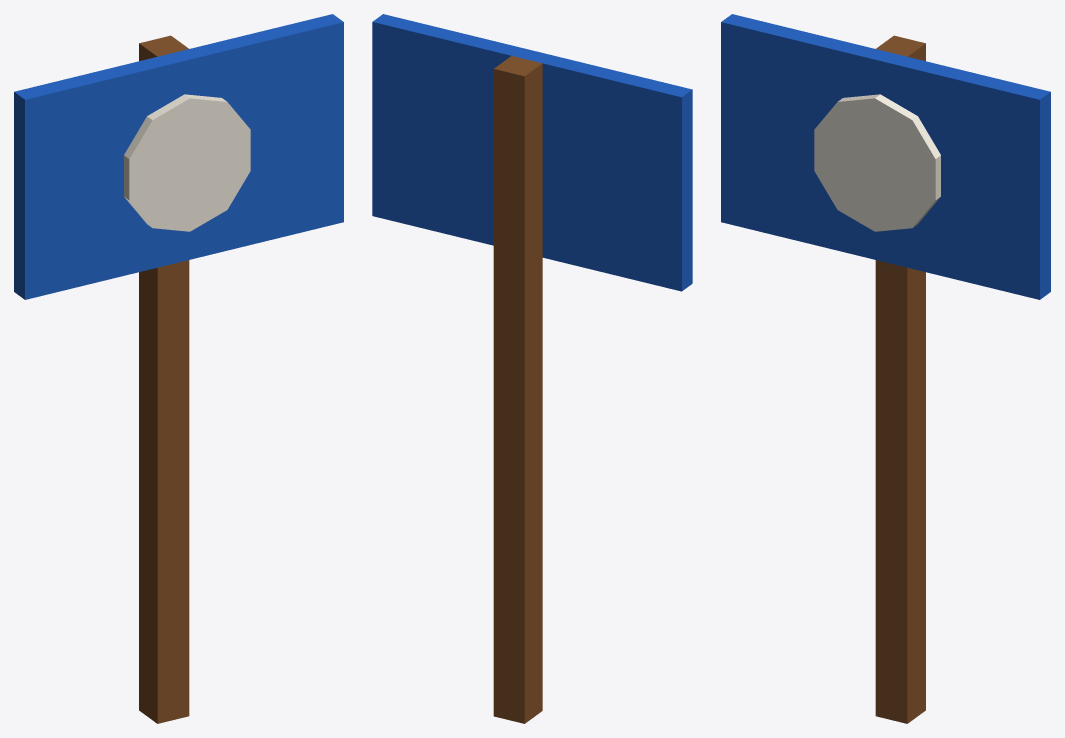
The model's file is trail_sign.glb.
3 renders of one model, left to right at view 1: azimuth 30°, elevation 25°; view 2: azimuth 150°, elevation 25°; view 3: azimuth 330°, elevation 25°, orthographic. The views are drawn at different scales.
Visible parts, largest first — view 1: trail_sign; view 2: trail_sign; view 3: trail_sign.
Part boxes in pixels (x1,y1,x2,y2): trail_sign: (14, 14, 343, 723); trail_sign: (372, 14, 692, 723); trail_sign: (721, 14, 1050, 723).
Bounding box in the file's own units: 1 × 2 × 0.19.
